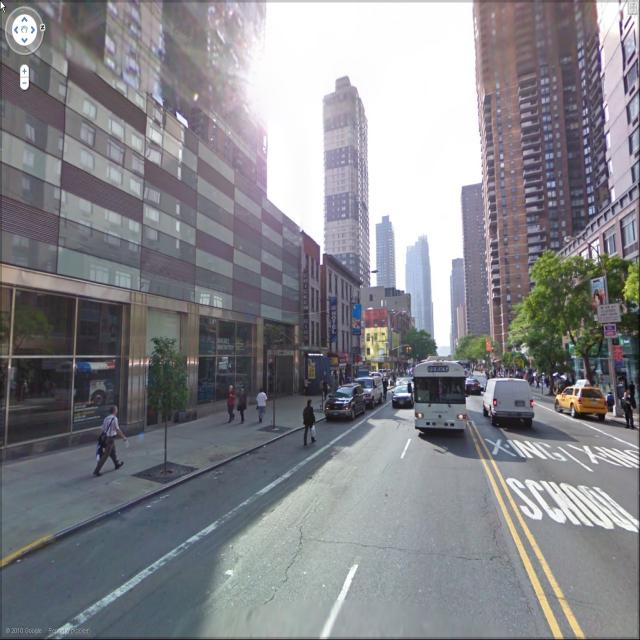b_1: (10, 1, 305, 371), (474, 11, 614, 246), (312, 80, 373, 284), (451, 181, 493, 350), (404, 235, 449, 344), (322, 260, 358, 371), (299, 250, 333, 359), (373, 215, 407, 302), (445, 244, 469, 340)
b_2: (521, 238, 631, 400)
